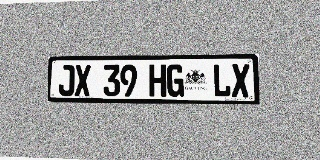3: (103, 65, 120, 96)
9: (120, 65, 137, 97)
G: (167, 64, 184, 97)
H: (149, 64, 166, 97)
J: (58, 65, 74, 96)
L: (213, 64, 231, 97)
X: (231, 64, 250, 97), (75, 65, 91, 96)
